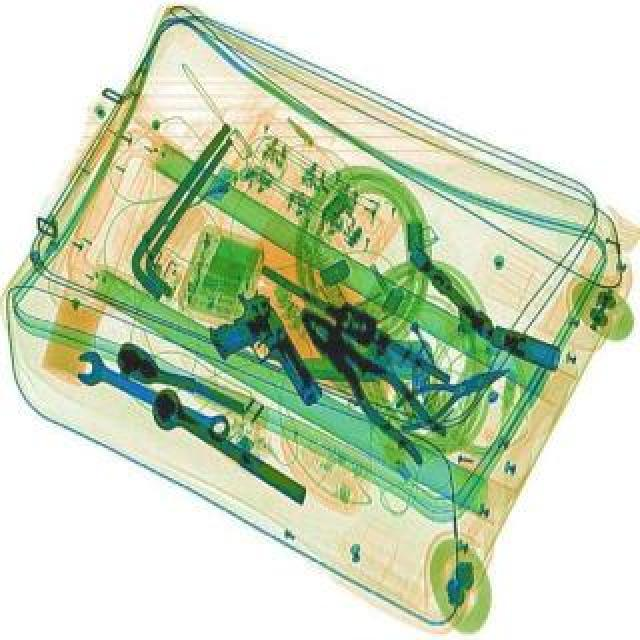gun: (198, 286, 330, 432)
scissors: (68, 350, 240, 446)
wrench: (284, 298, 456, 476), (388, 352, 518, 436)
